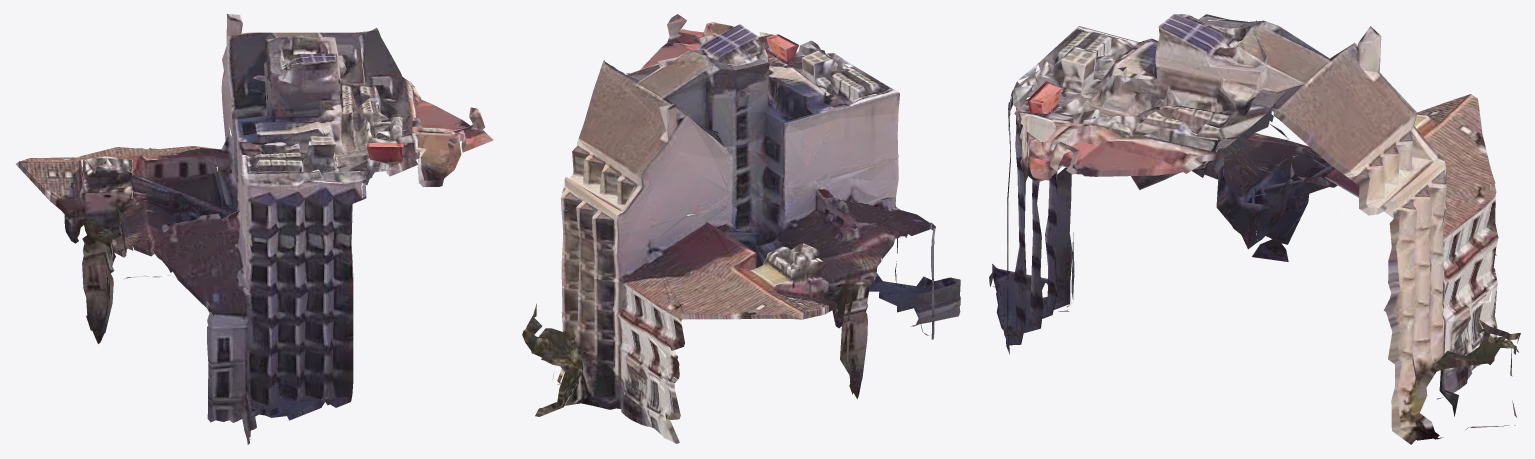
3 renders of one model, left to right at view 1: azimuth 30°, elevation 25°; view 2: azimuth 150°, elevation 25°; view 3: azimuth 270°, elevation 25°, orthographic. The views are drawn at different scales.
Visible parts, largest first — view 1: Mesh_0; view 2: Mesh_0; view 3: Mesh_0.
Part boxes in pixels (x1,y1,x2,y2): Mesh_0: (16,14,493,444); Mesh_0: (522,14,960,443); Mesh_0: (989,14,1520,444).
Bounding box in the file's own units: 33.47 × 32.08 × 41.59.
1 material, 1 textured.
